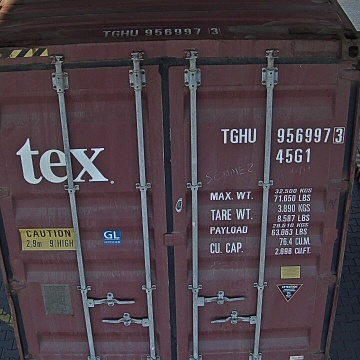serial_id: (221, 127, 344, 143)
